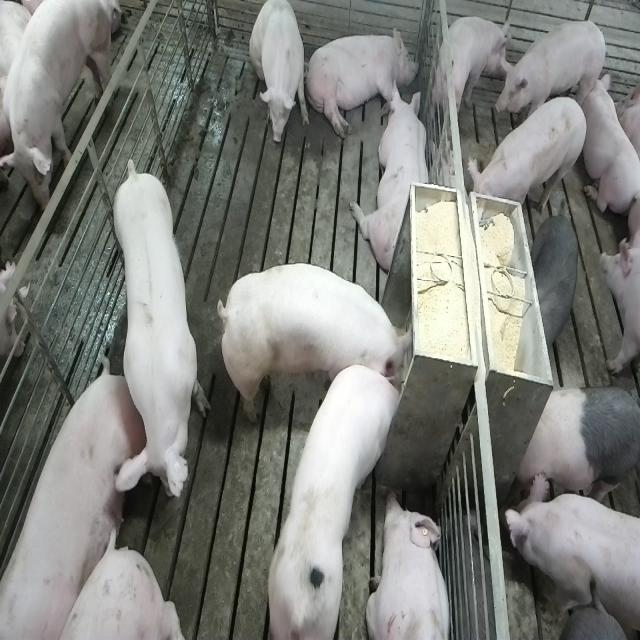Feeding: (265, 360, 406, 636), (214, 261, 412, 418)
Lateral_lying: (304, 22, 418, 140)
Sitting: (250, 0, 308, 146)
Standing: (107, 155, 207, 510), (0, 0, 113, 214), (502, 471, 639, 640), (514, 382, 638, 510), (471, 93, 590, 222), (495, 20, 609, 133), (434, 15, 514, 132), (530, 214, 579, 352)
Sternal_lying: (353, 80, 432, 274), (368, 492, 454, 640), (582, 71, 638, 221)
